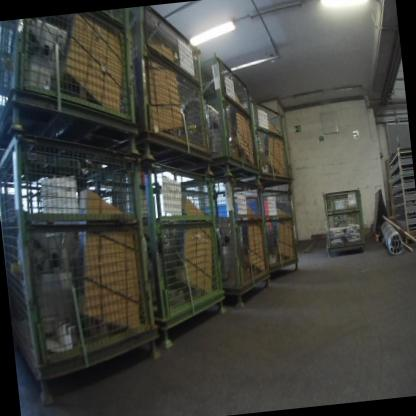stillage: (0, 116, 168, 407), (81, 149, 233, 359), (0, 9, 147, 169), (86, 2, 211, 176), (175, 167, 275, 320), (159, 45, 261, 192), (229, 178, 305, 286), (227, 88, 294, 194), (319, 184, 369, 258)
